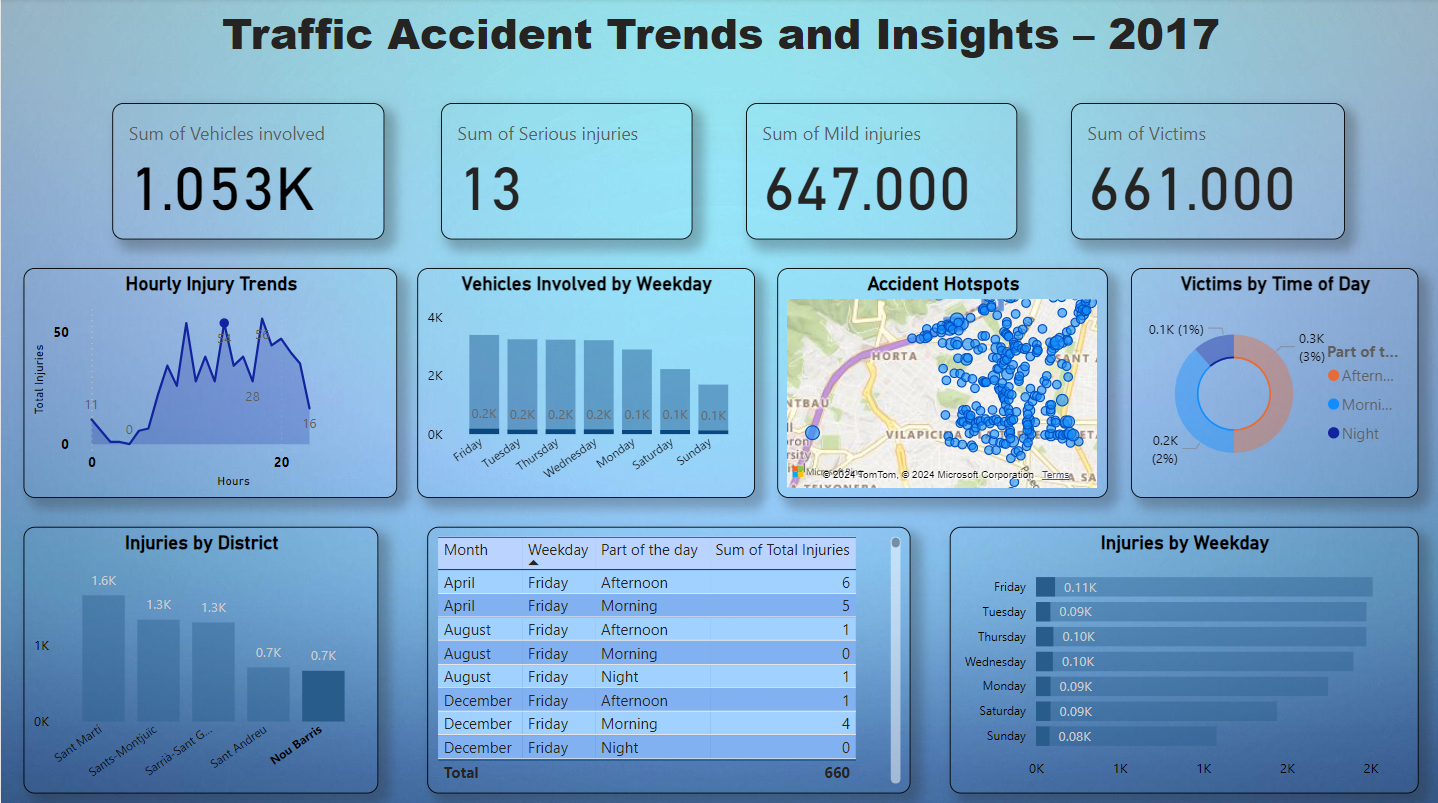

What the dashboard file says about the page in this screenshot:
{"tool":"powerbi","page":{"name":"Page 1","canvas":[1280,720],"ordinal":0},"visuals":[{"type":"cardVisual","fields":{"Data":["Sum(accidents_2017.Victims)"]},"box":[950.7,94.1,243.7,121.9],"z":0},{"type":"cardVisual","fields":{"Data":["Sum(accidents_2017.Serious injuries)"]},"box":[361.9,94.1,223.2,121.9],"z":1000},{"type":"clusteredColumnChart","title":"Injuries by District","fields":{"Category":["accidents_2017.District Name"],"Y":["Sum(accidents_2017.Total Injuries)"]},"box":[20.5,470.5,316.1,237.7],"z":2000},{"type":"clusteredBarChart","title":"Injuries by Weekday","fields":{"Category":["accidents_2017.Weekday"],"Y":["Sum(accidents_2017.Total Injuries)"]},"box":[844.5,470.5,417.4,237.7],"z":3000},{"type":"cardVisual","fields":{"Data":["Sum(accidents_2017.Vehicles involved)"]},"box":[65.1,94.1,243.7,121.9],"z":4000},{"type":"cardVisual","fields":{"Data":["Sum(accidents_2017.Mild injuries)"]},"box":[640.6,94.1,241.3,121.9],"z":5000},{"type":"tableEx","fields":{"Values":["accidents_2017.Month","accidents_2017.Weekday","accidents_2017.Part of the day","Sum(accidents_2017.Total Injuries)"]},"box":[380,470.5,430.7,237.7],"z":6000},{"type":"lineChart","title":"Hourly Injury Trends","fields":{"Category":["accidents_2017.Hour"],"Y":["Sum(accidents_2017.Total Injuries)"]},"box":[20.5,240.1,333,205.1],"z":7000},{"type":"map","title":"Accident Hotspots","fields":{"X":["accidents_2017.Longitude"],"Y":["accidents_2017.Latitude"],"Size":["Count(accidents_2017.Total Injuries)"]},"box":[691.3,240.1,294.4,205.1],"z":8000},{"type":"clusteredColumnChart","title":"Vehicles Involved by Weekday","fields":{"Category":["accidents_2017.Weekday"],"Y":["Sum(accidents_2017.Vehicles involved)"]},"box":[370.4,240.1,300.4,205.1],"z":9000},{"type":"donutChart","title":"Victims by Time of Day","fields":{"Category":["accidents_2017.Part of the day"],"Y":["Sum(accidents_2017.Victims)"]},"box":[1006.2,240.1,255.8,205.1],"z":10000},{"type":"textbox","box":[0,0,1280,66.4],"z":11000}]}

Visuals, with their boxes in screenshot pixels (x1, y1, x2, y2), scaled from the page's 1280x720 canvas onto the 1438x803 screenshot:
cardVisual - Sum(accidents_2017.Victims): <box>1068,105,1342,241</box>
cardVisual - Sum(accidents_2017.Serious injuries): <box>407,105,657,241</box>
"Injuries by District" clusteredColumnChart: <box>23,525,378,790</box>
"Injuries by Weekday" clusteredBarChart: <box>949,525,1418,790</box>
cardVisual - Sum(accidents_2017.Vehicles involved): <box>73,105,347,241</box>
cardVisual - Sum(accidents_2017.Mild injuries): <box>720,105,991,241</box>
tableEx - accidents_2017.Month x accidents_2017.Weekday: <box>427,525,911,790</box>
"Hourly Injury Trends" lineChart: <box>23,268,397,497</box>
"Accident Hotspots" map: <box>777,268,1107,497</box>
"Vehicles Involved by Weekday" clusteredColumnChart: <box>416,268,754,497</box>
"Victims by Time of Day" donutChart: <box>1130,268,1418,497</box>
textbox: <box>0,0,1437,74</box>
